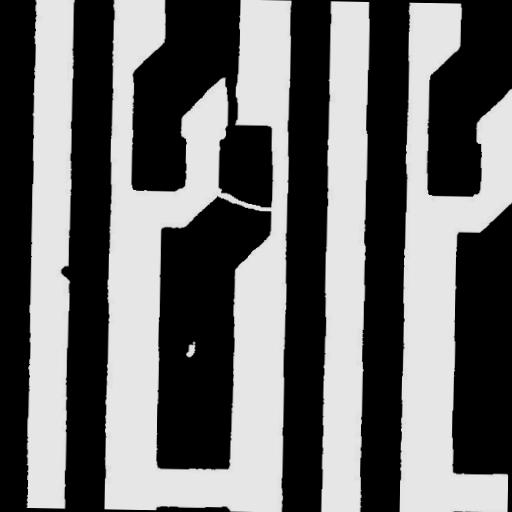open: (201, 180, 283, 218)
pin-hole: (178, 334, 203, 364)
short: (216, 64, 246, 139)
spur: (52, 258, 82, 288)
